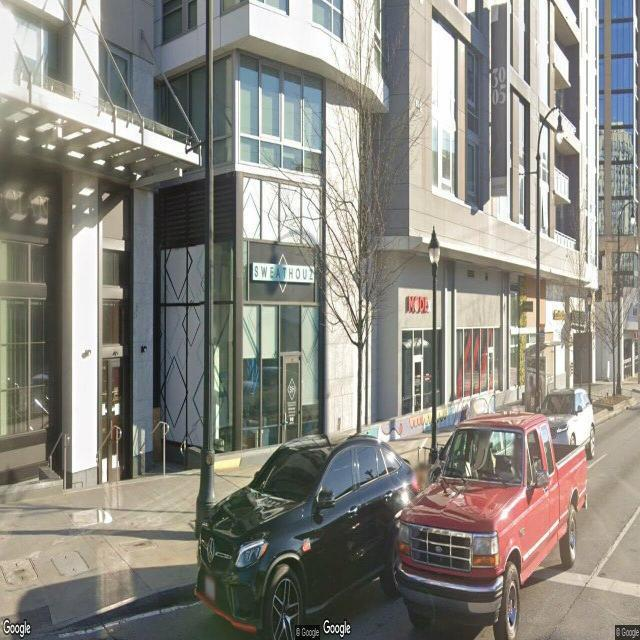shelter: (522, 341, 564, 414)
